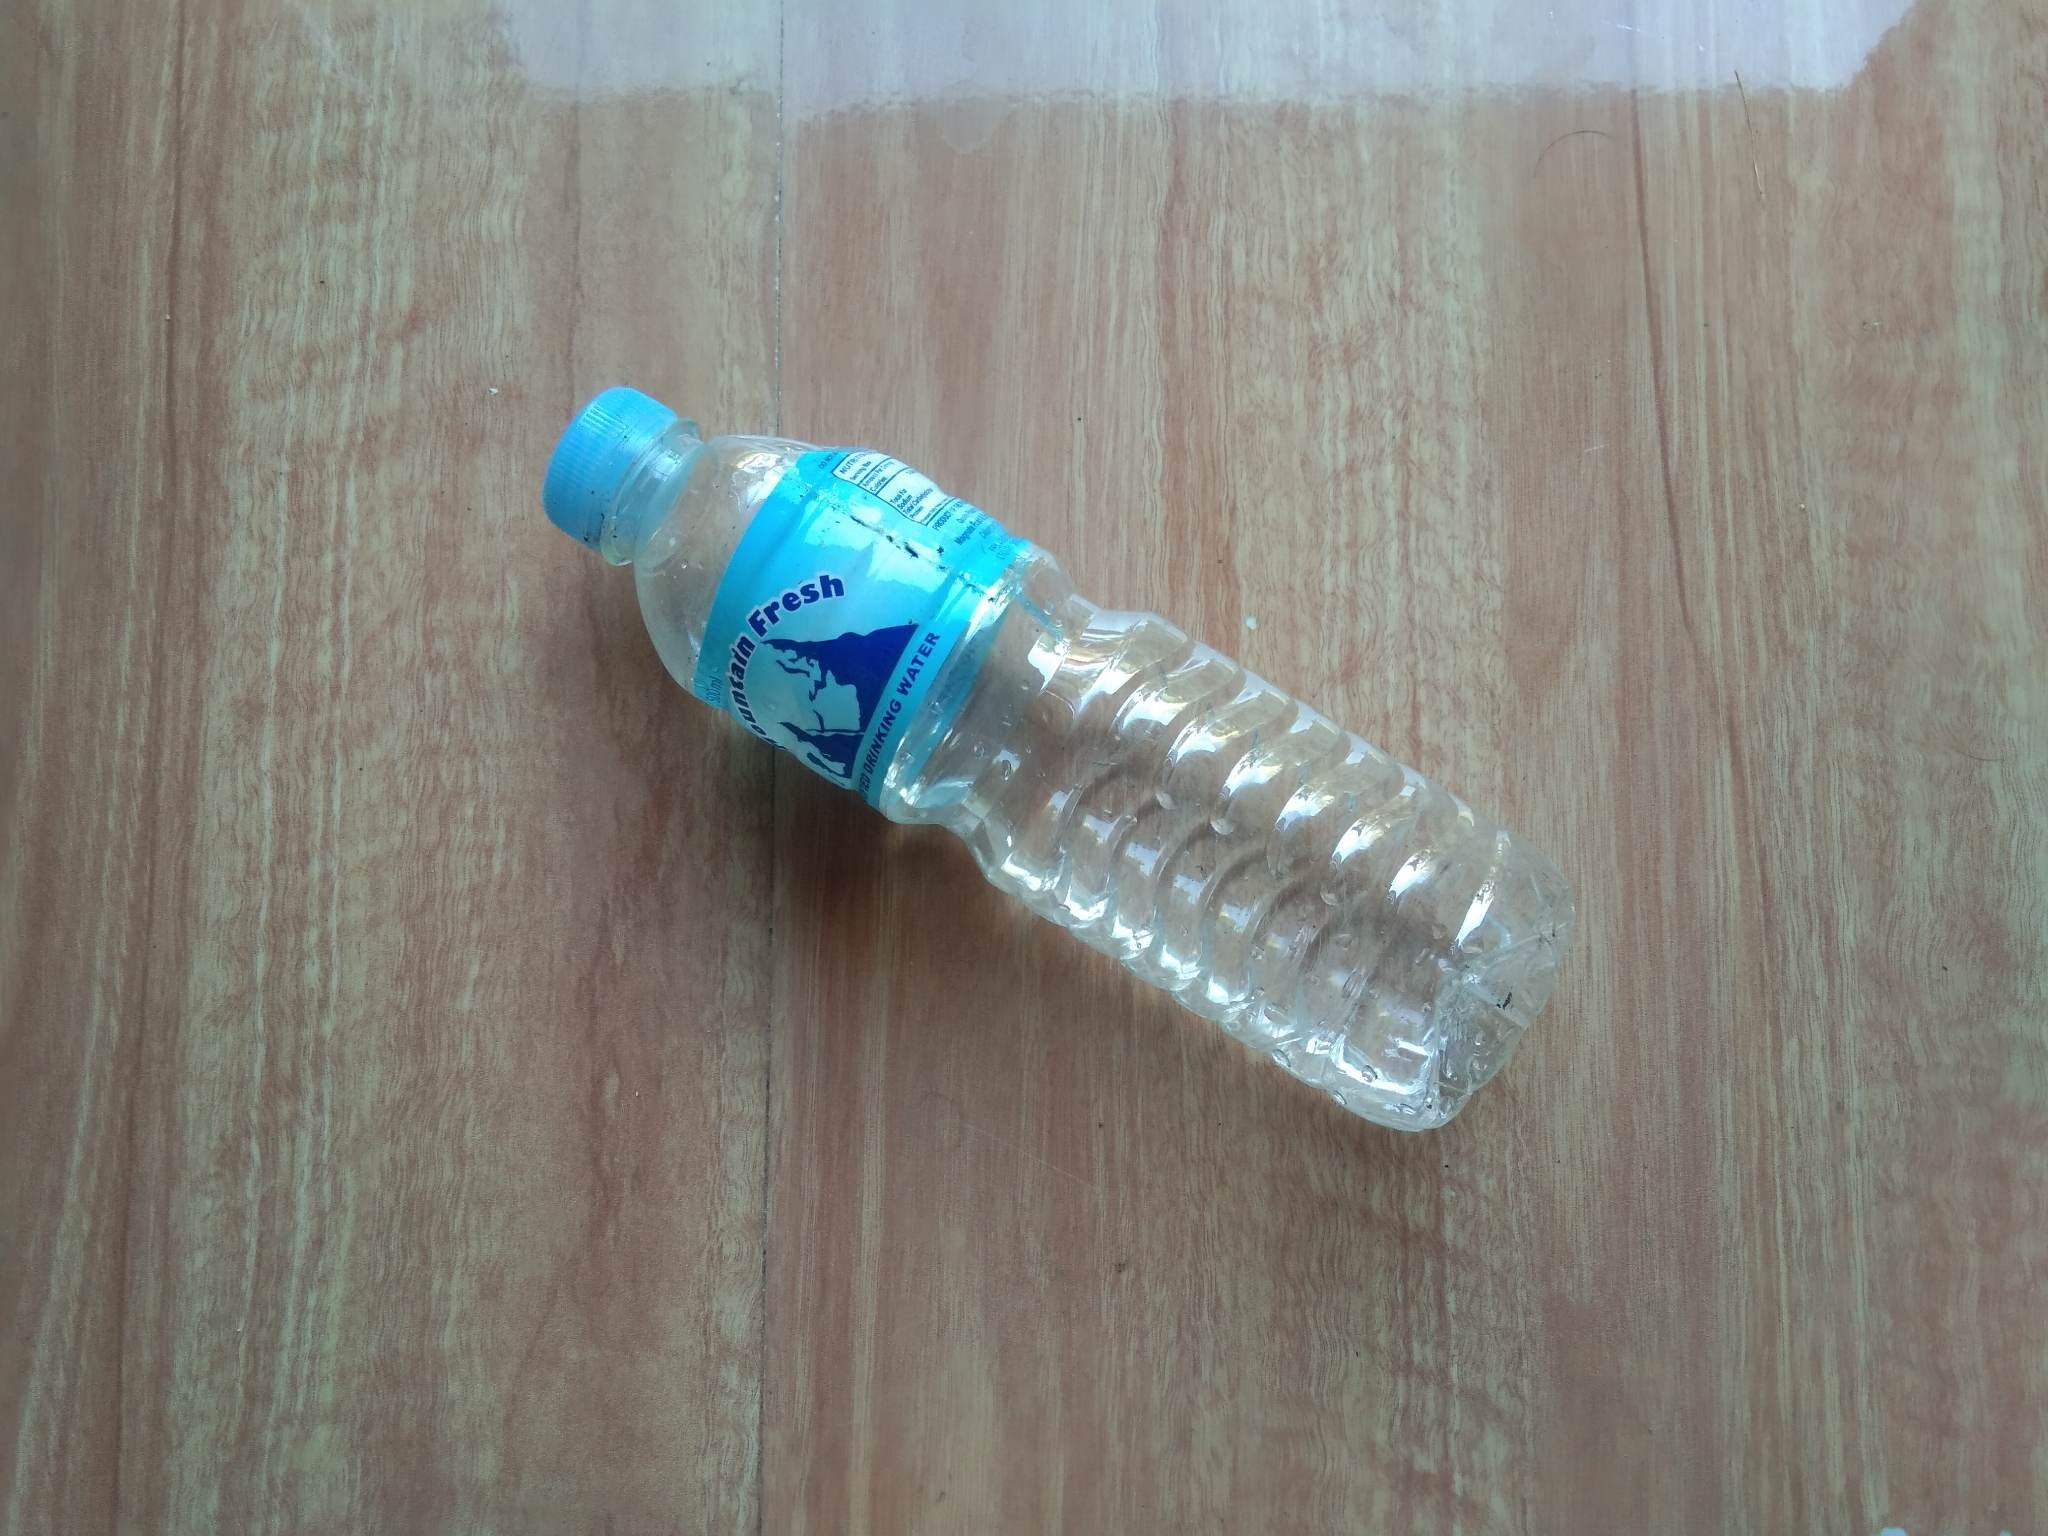plastic: (498, 337, 1627, 1200)
